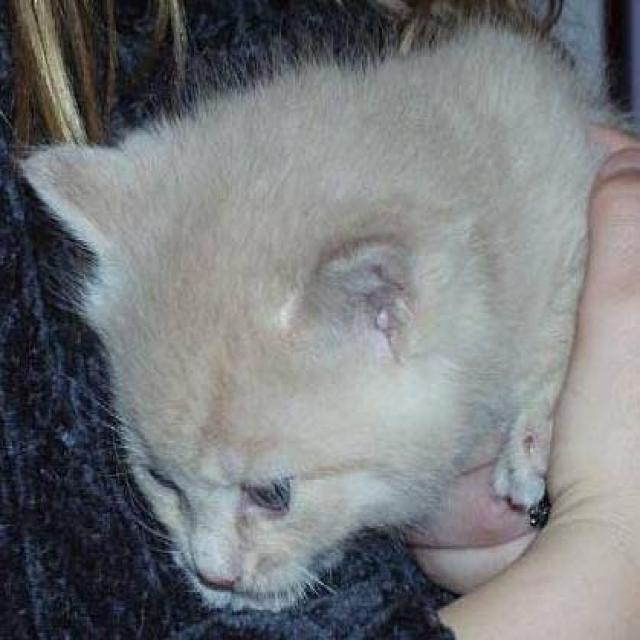cat: (14, 0, 620, 615)
